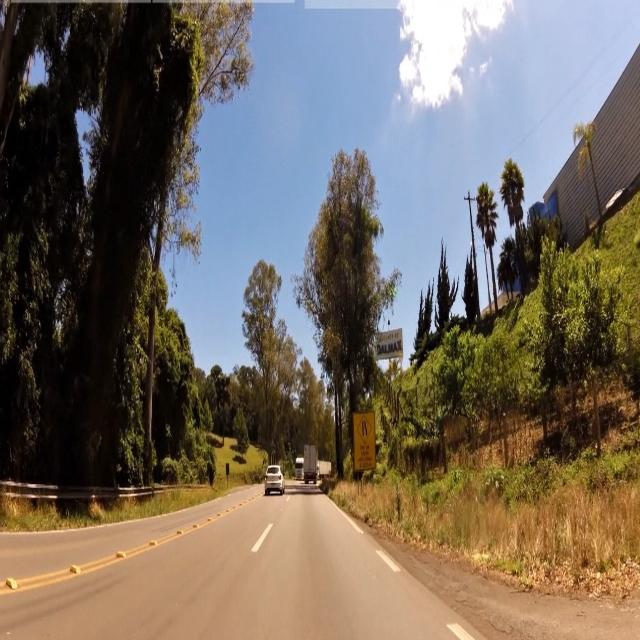A-21c: (358, 415, 373, 443)
